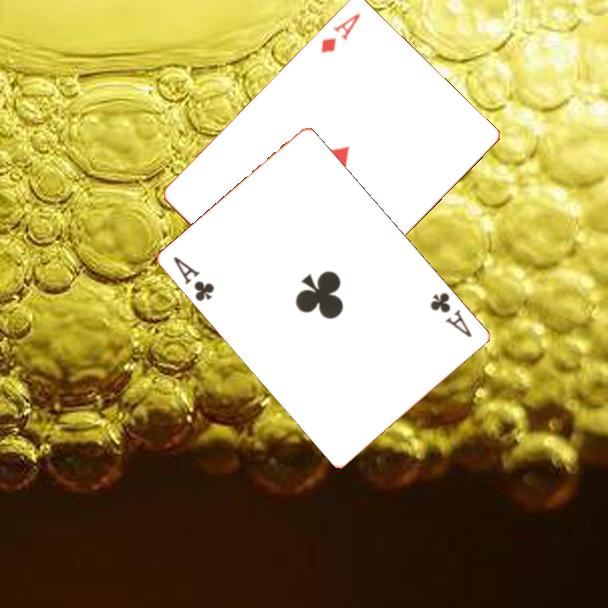c01: (427, 288, 475, 341), (170, 253, 218, 304)
d01: (317, 10, 363, 57)
